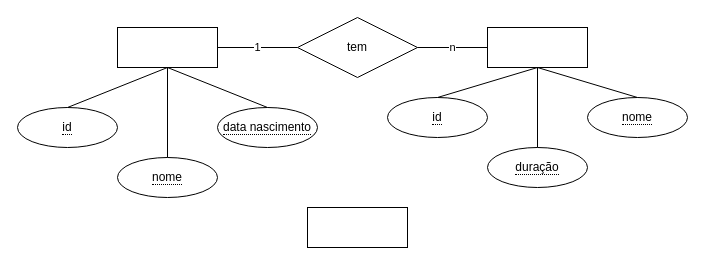
The diagram is 705 pixels wide and 265 high, and some of its shapes have lost their labels. Here are the shapes that lost their labels. From the top down, the box of each, then its label:
(116, 26, 218, 68): aluno
(486, 26, 588, 68): curso
(306, 206, 408, 248): Entity
